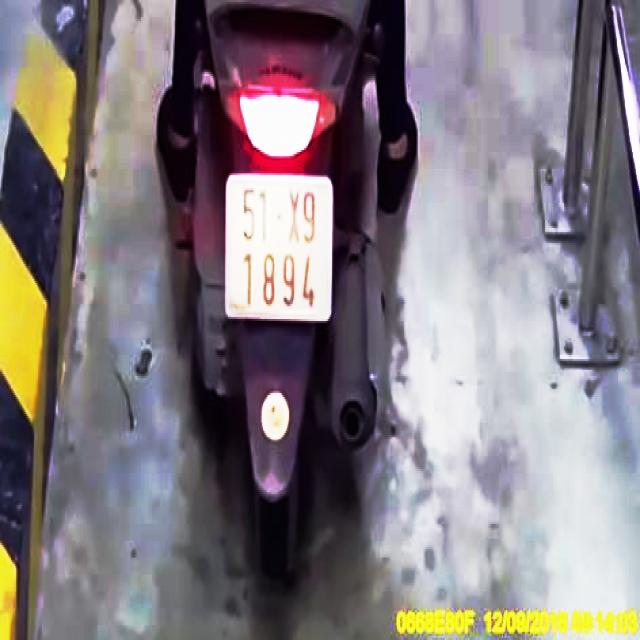license_plate: (226, 175, 334, 324)
